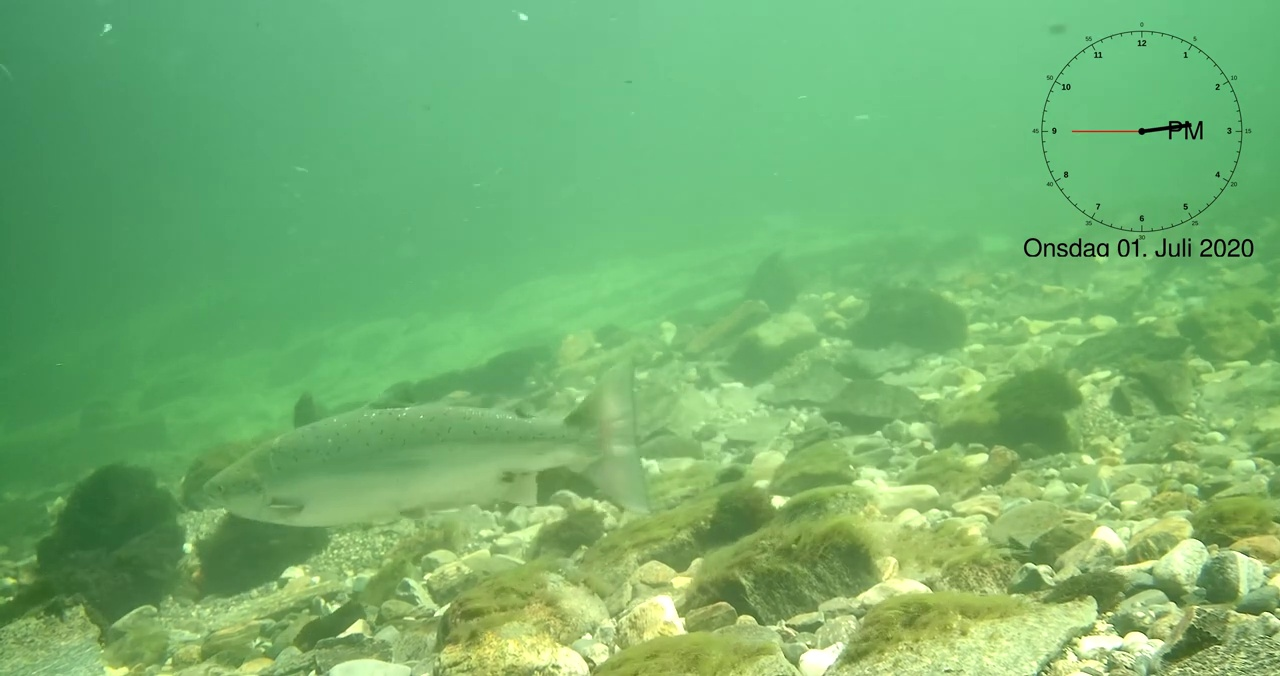salmon: (199, 355, 655, 529)
